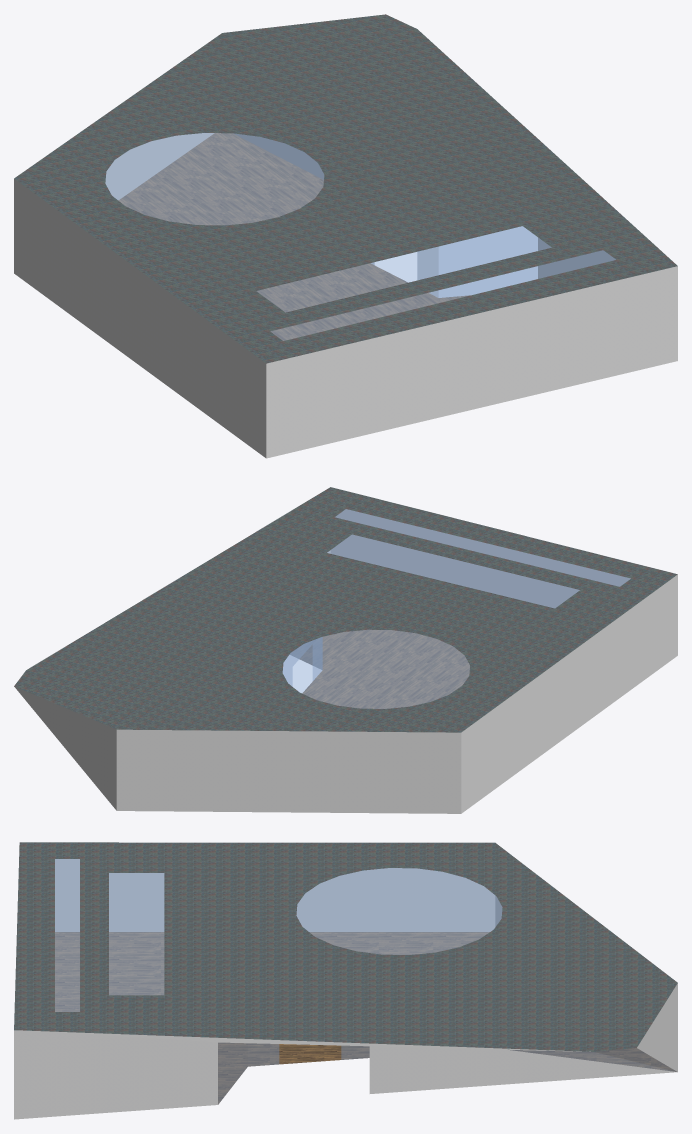
Rendered from finalVRArtGallery.gltf.
3 renders of one model, top to bottom at view 1: azimuth 30°, elevation 25°; view 2: azimuth 150°, elevation 25°; view 3: azimuth 270°, elevation 25°, orthographic. The views are drawn at different scales.
Visible parts, largest first — view 1: SketchUp; view 2: SketchUp; view 3: SketchUp.
Part boxes in pixels (x1,y1,x2,y2): SketchUp: (14,14,677,458); SketchUp: (14,487,677,813); SketchUp: (14,842,677,1119).
Size of the model in its own units: 27.69 by 5.51 by 37.09.
10 materials, 7 textured.
